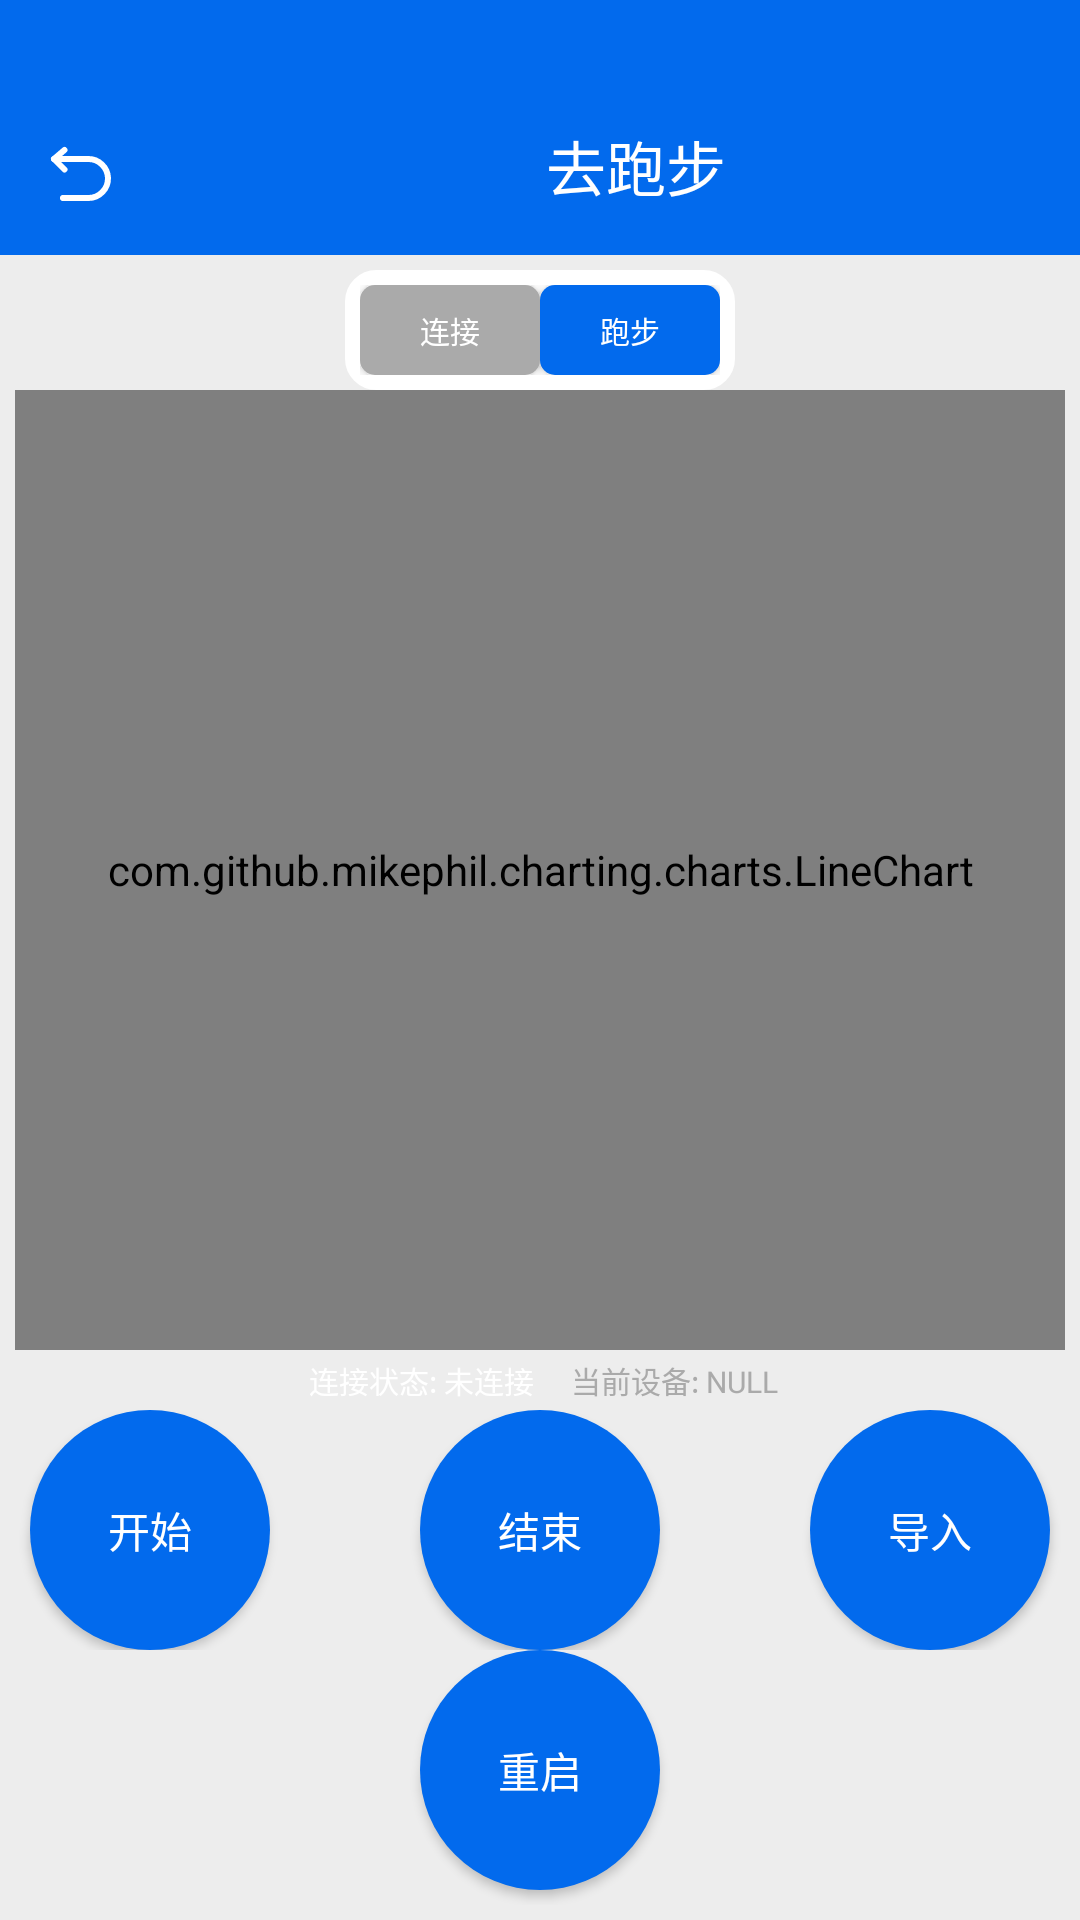

Where icons sit on this 1080 × 1920 app screen, as (x1, y1, x2, y2):
res return: (50, 146, 111, 201)
